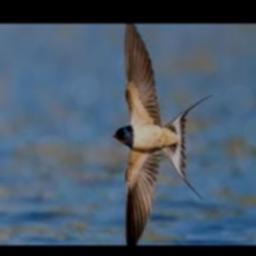Swallow: (113, 23, 214, 246)
